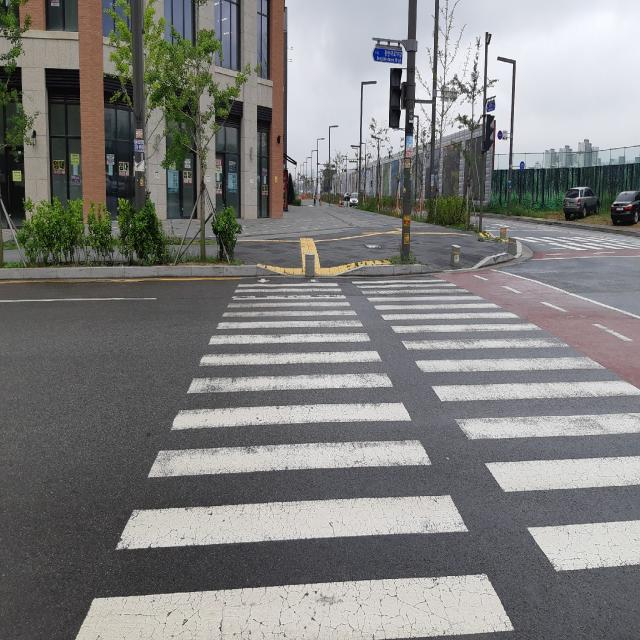횡단보도: (73, 273, 640, 640), (535, 236, 631, 249)
